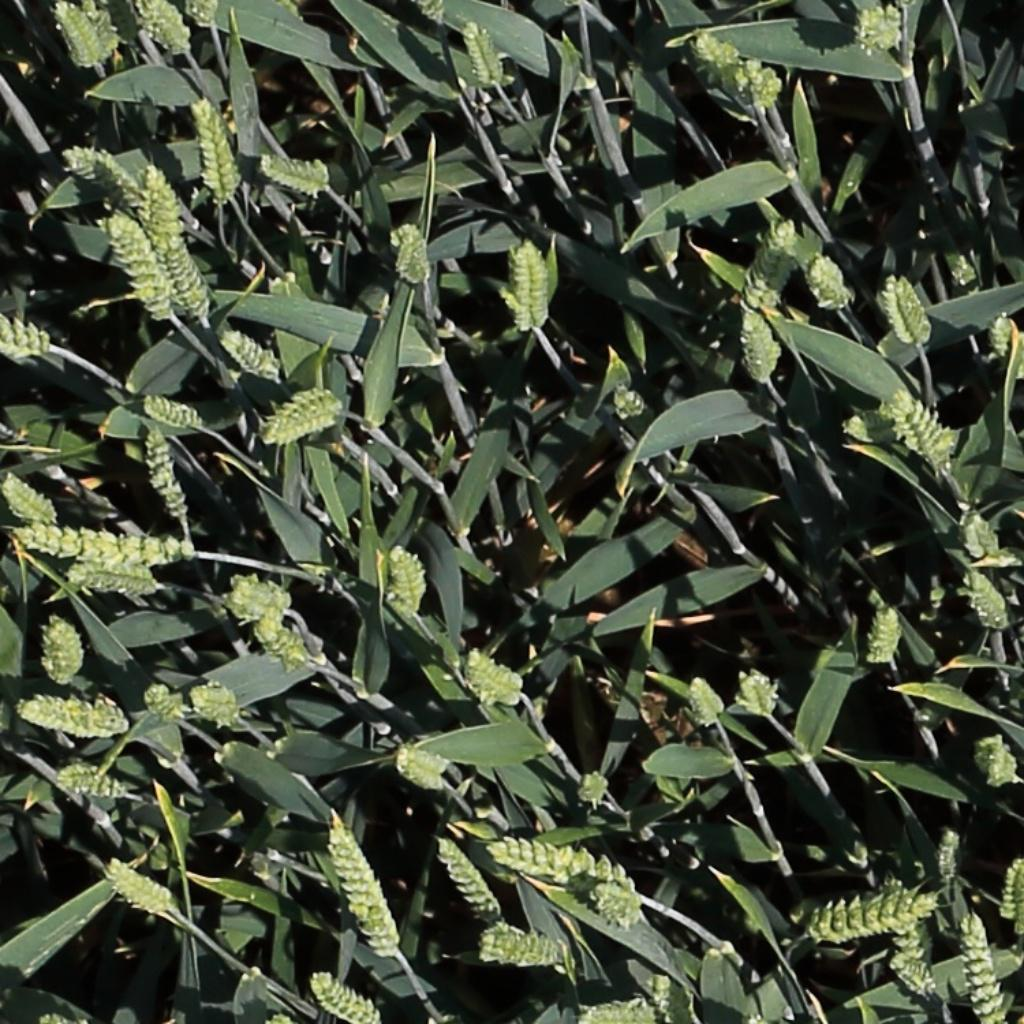0-0: (326, 811, 402, 961), (144, 169, 212, 323), (102, 211, 174, 316), (435, 834, 506, 929), (13, 529, 189, 565), (15, 683, 129, 735), (891, 386, 958, 473), (744, 211, 800, 315), (492, 845, 626, 886), (141, 420, 191, 527), (161, 225, 214, 323), (811, 899, 937, 940), (961, 909, 1006, 1022), (191, 91, 236, 204), (262, 390, 349, 441), (73, 146, 143, 203), (959, 565, 1014, 636), (461, 13, 509, 94), (62, 0, 116, 71), (309, 972, 379, 1024), (105, 862, 174, 914), (890, 268, 933, 349), (843, 404, 937, 441), (949, 250, 992, 330), (464, 649, 524, 704), (0, 472, 58, 528), (219, 327, 281, 379), (744, 301, 780, 387), (387, 540, 425, 619), (232, 564, 281, 624), (513, 241, 544, 335), (140, 1, 192, 57), (45, 608, 82, 686), (480, 929, 567, 962), (54, 759, 126, 798), (811, 249, 856, 311), (64, 563, 155, 593), (888, 948, 940, 999), (262, 623, 319, 669), (592, 882, 644, 932), (688, 670, 729, 733), (0, 301, 47, 352), (395, 217, 428, 288), (259, 155, 329, 188), (861, 2, 902, 57), (961, 507, 998, 566), (740, 666, 778, 723), (872, 598, 902, 669), (999, 857, 1024, 939), (205, 594, 269, 626), (143, 395, 204, 428), (188, 688, 243, 724), (398, 750, 450, 786), (136, 680, 184, 719), (983, 735, 1015, 791), (694, 30, 740, 68), (937, 826, 961, 894), (753, 60, 783, 111), (651, 968, 678, 1024), (584, 1003, 658, 1022), (577, 770, 611, 811), (991, 307, 1014, 363), (419, 0, 453, 30), (189, 0, 219, 31)
